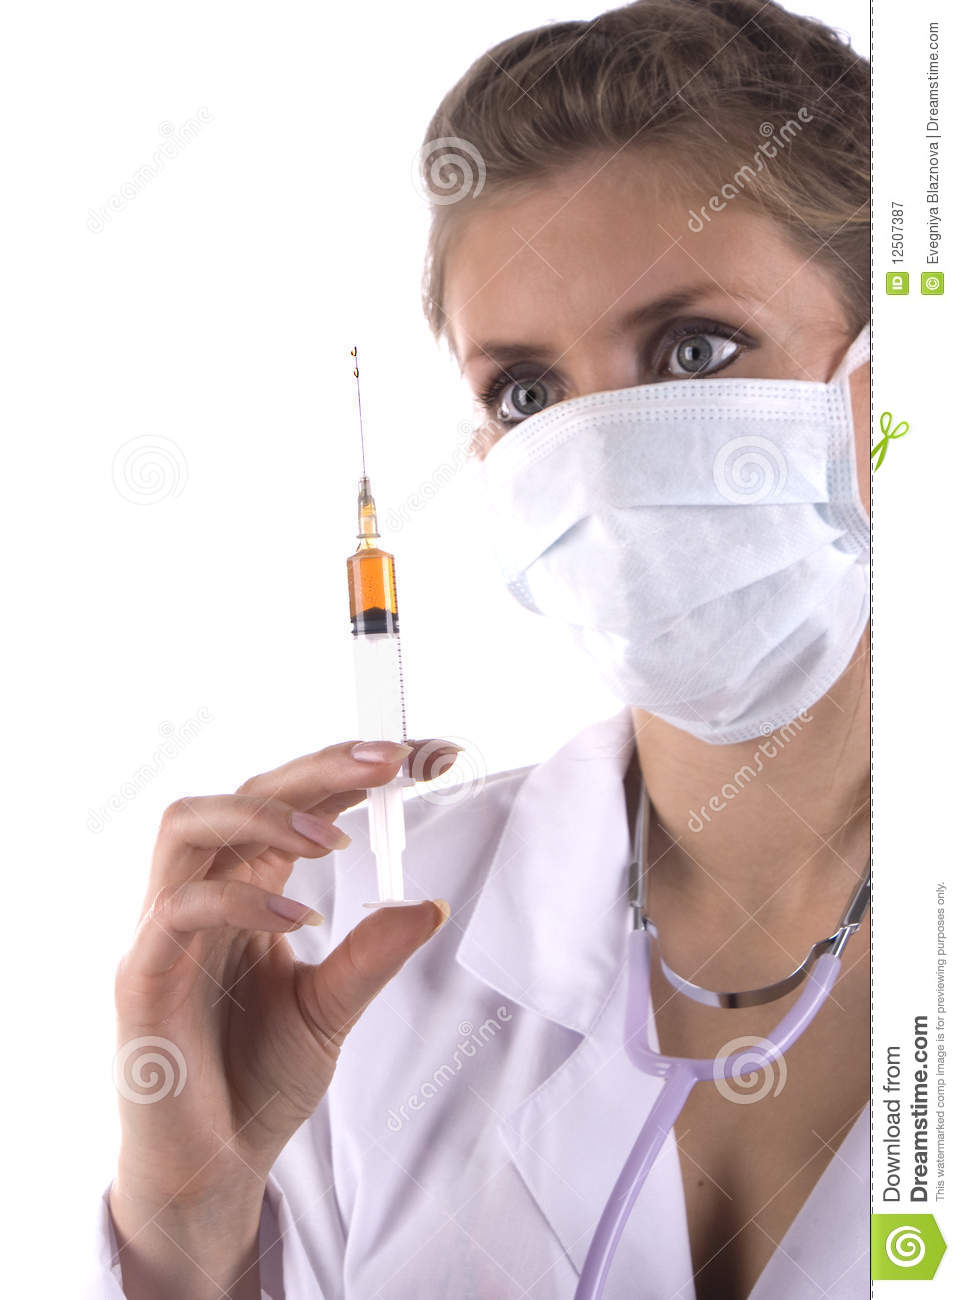mask: (478, 377, 862, 746)
